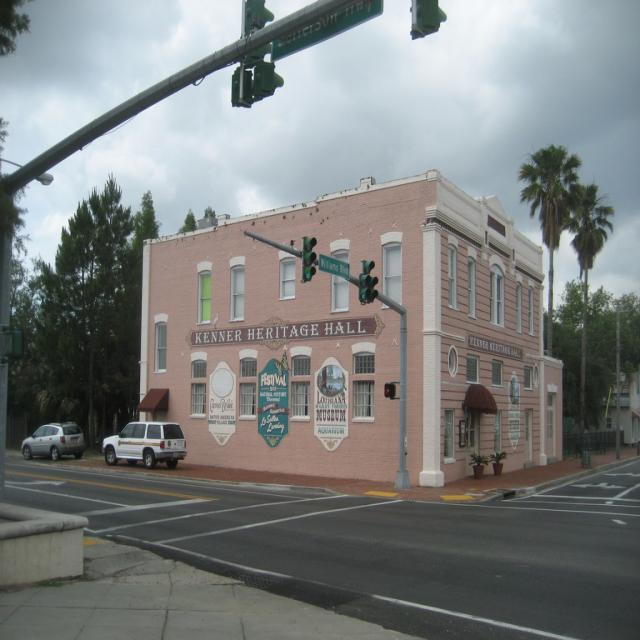traffic light: (301, 231, 322, 286)
